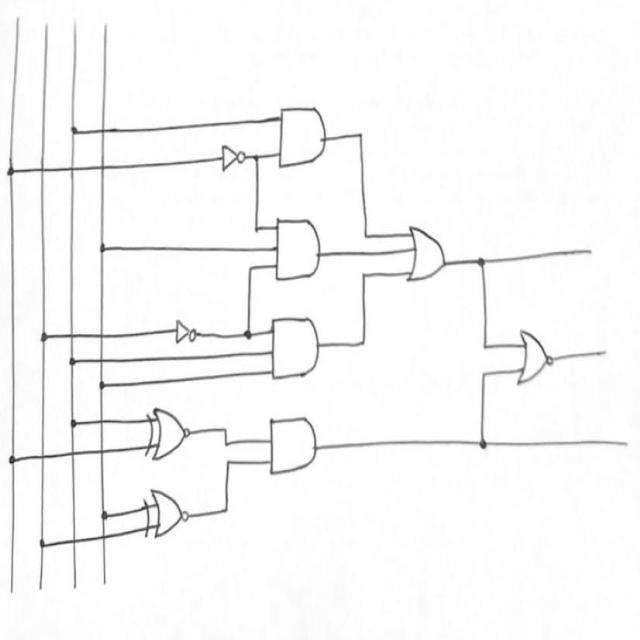AND: (268, 212, 329, 298), (274, 96, 335, 180), (267, 312, 327, 390), (259, 414, 324, 479)
NOR: (514, 323, 564, 399)
NOT: (216, 139, 248, 175), (172, 314, 199, 351)
OR: (404, 218, 455, 294)
XNOR: (138, 483, 196, 550), (140, 401, 195, 466)
